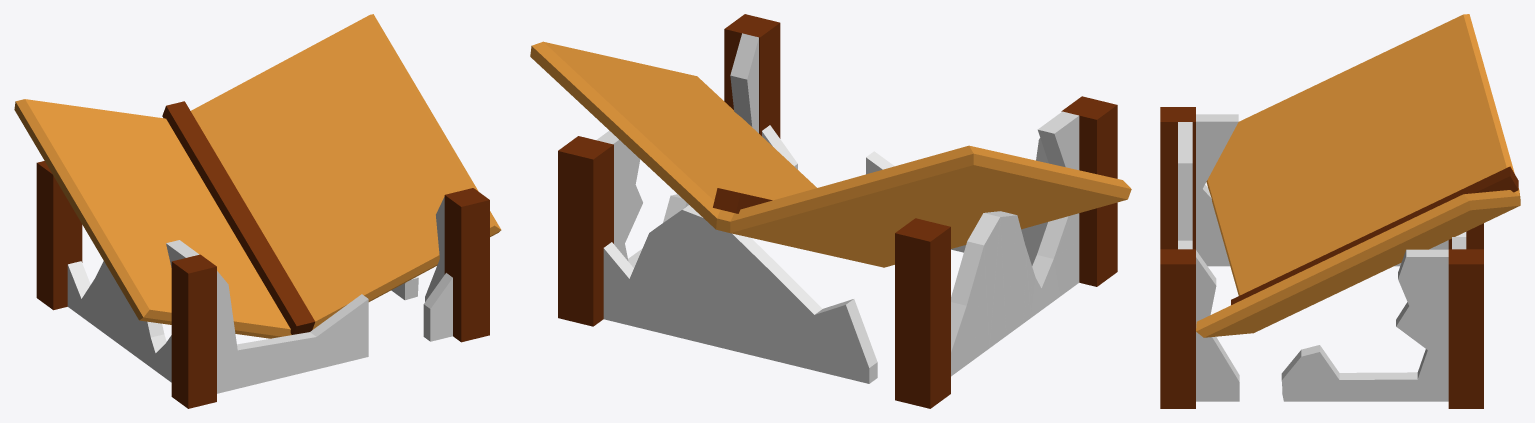
The model's file is house0.fbx.
3 renders of one model, left to right at view 1: azimuth 30°, elevation 25°; view 2: azimuth 150°, elevation 25°; view 3: azimuth 270°, elevation 25°, orthographic. The views are drawn at different scales.
Parts seen in each view (by area): view 1: Roof, Base, pole, pillar4, pillar3, pillar1; view 2: Base, Roof, pillar1, pillar2, pillar4, pillar3, pole; view 3: Roof, Base, pillar3, pillar2, pillar4, pole, pillar1.
Boxes of the visible parts, x1,y1,x2,y2 form: Roof: (14,14,501,338); Base: (67,197,452,393); pole: (162,101,315,334); pillar4: (171,254,216,408); pillar3: (444,188,489,342); pillar1: (36,161,82,310); Base: (596,33,1079,383); Roof: (530,41,1131,267); pillar1: (895,218,950,408); pillar2: (558,136,613,326); pillar4: (1061,96,1117,286); pillar3: (724,14,780,138); pole: (713,188,772,213); Roof: (1196,14,1520,337); Base: (1178,114,1466,401); pillar3: (1160,249,1195,408); pillar2: (1448,249,1483,408); pillar4: (1160,107,1195,249); pole: (1231,166,1518,304); pillar1: (1448,223,1483,249).
Bounding box in the file's own units: 500 × 281 × 406.
